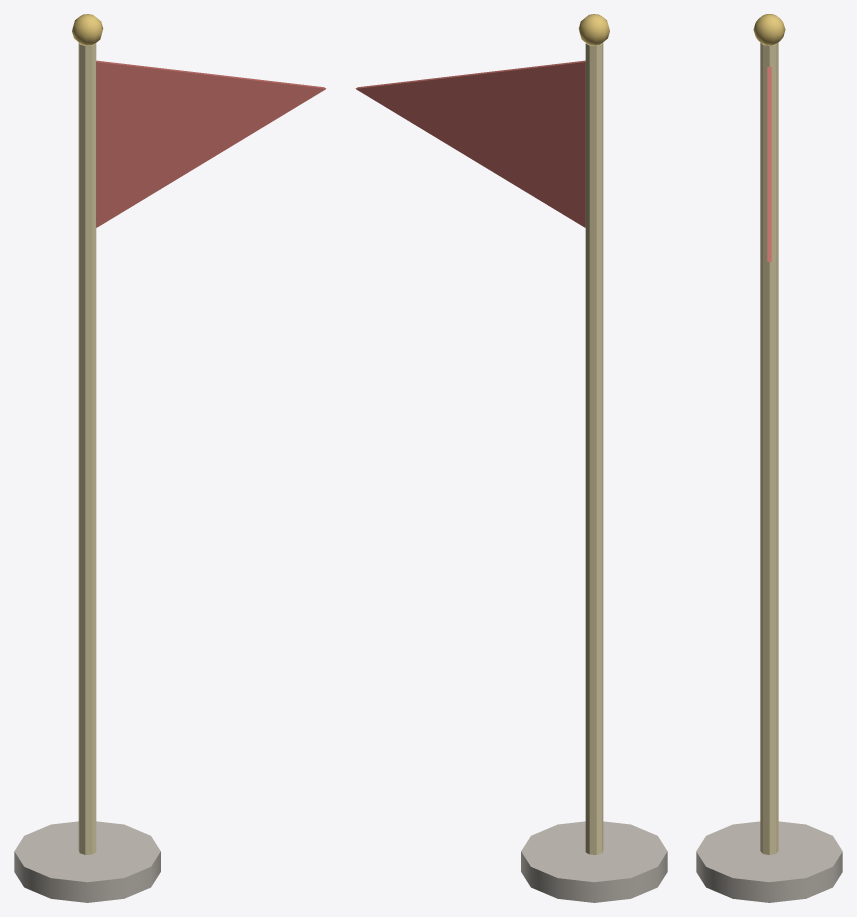
File: Gobak_Flag.fbx
3 renders of one model, left to right at view 1: azimuth 30°, elevation 25°; view 2: azimuth 150°, elevation 25°; view 3: azimuth 270°, elevation 25°, orthographic.
Visible parts, largest first — view 1: Gobak_Flag; view 2: Gobak_Flag; view 3: Gobak_Flag.
Part boxes in pixels (bbox=[...]): Gobak_Flag: bbox=[14, 14, 326, 902]; Gobak_Flag: bbox=[355, 14, 667, 902]; Gobak_Flag: bbox=[696, 14, 842, 902].
Size of the model in its own units: 0.76 by 2.07 by 0.32.
